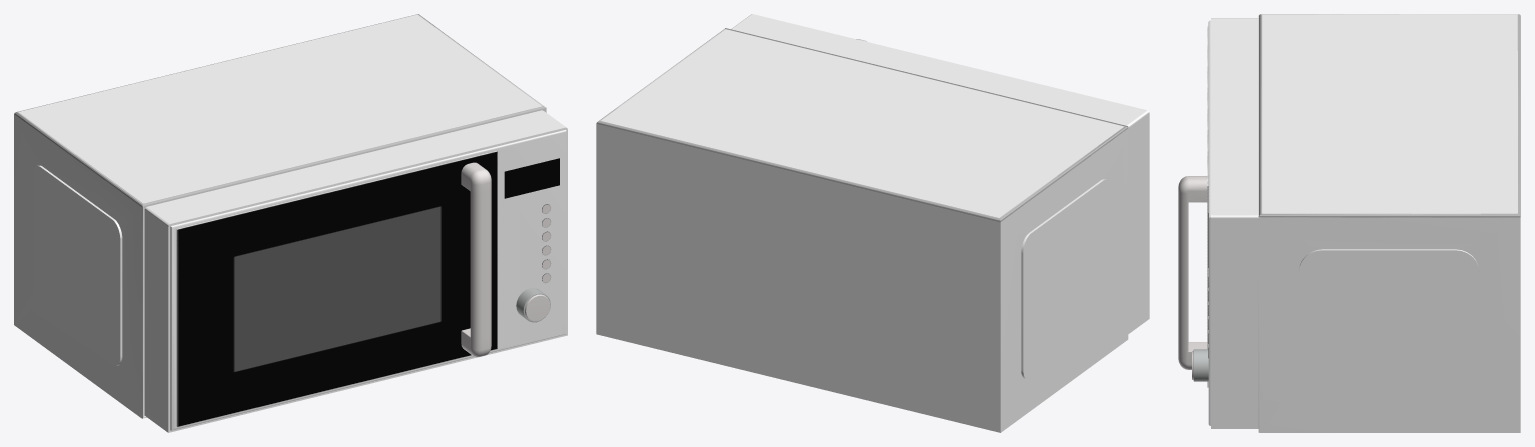
File: microwave.glb
The picture shows the model from 3 angles, left to right: view 1: azimuth 30°, elevation 25°; view 2: azimuth 150°, elevation 25°; view 3: azimuth 270°, elevation 25°; orthographic projection. The views are drawn at different scales.
Parts seen in each view (by area): view 1: pCube1, pCube3, pCube2, pCylinder7; view 2: pCube1; view 3: pCube1, pCube3, pCylinder7.
Boxes of the visible parts, x1,y1,x2,y2 form: pCube1: (14,14,567,432); pCube3: (461,162,491,357); pCube2: (504,158,559,198); pCylinder7: (516,288,550,322); pCube1: (596,14,1149,432); pCube1: (1207,14,1520,432); pCube3: (1178,176,1207,369); pCylinder7: (1192,349,1208,381).
Bounding box in the file's own units: 3.82 × 1.91 × 2.71.
Materials: 1 (1 with a texture image).
